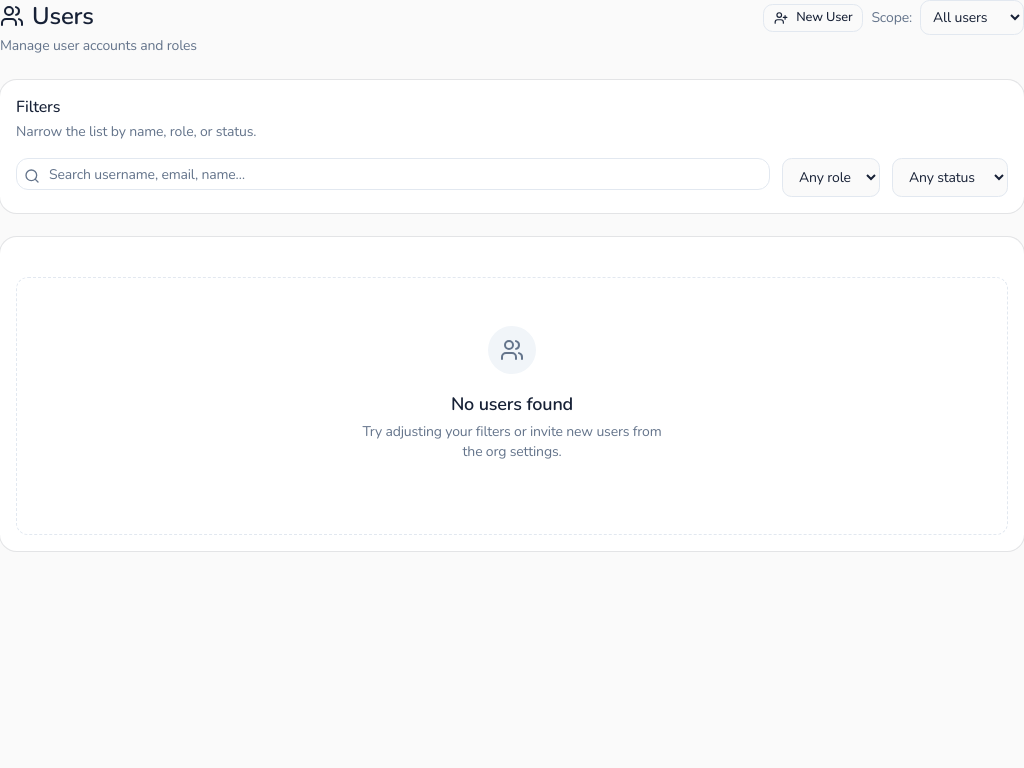
Test: UsersClient › New User button visibility › clicking New User button opens CreateUserDialog
The image size is (1024, 768).
Click the button "New User": (813,18) [763, 4, 864, 32]
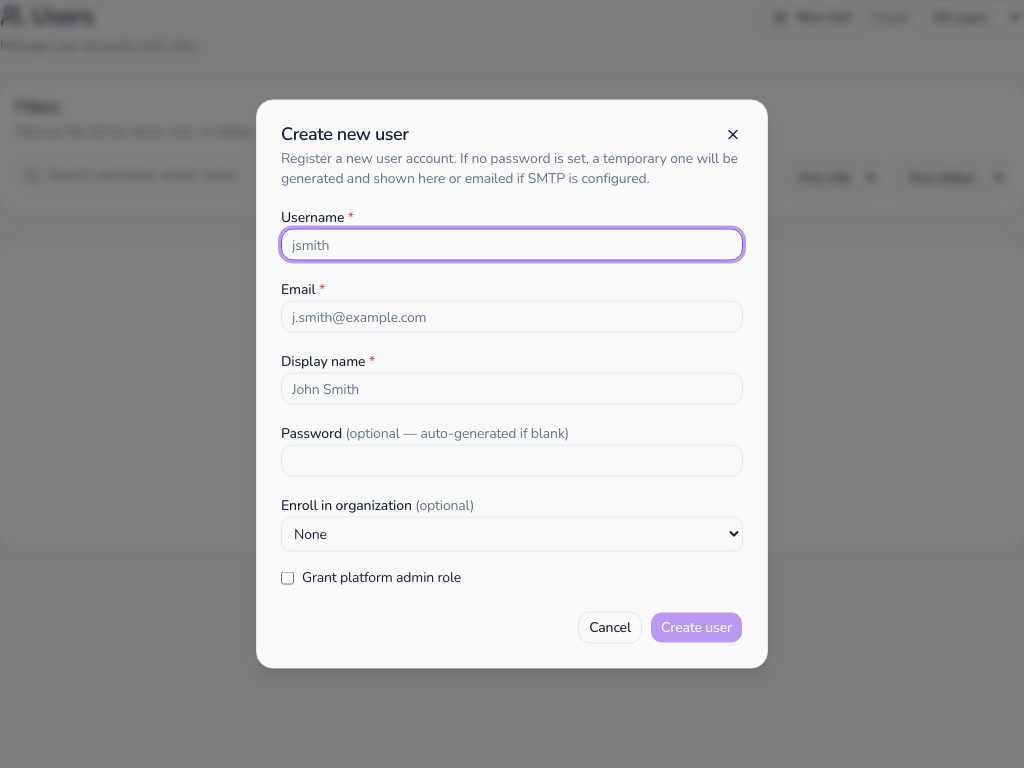
Check: the dialog is shown, box [256, 100, 768, 668]
Check: the heading "Create new user" is shown, box [281, 122, 408, 146]
